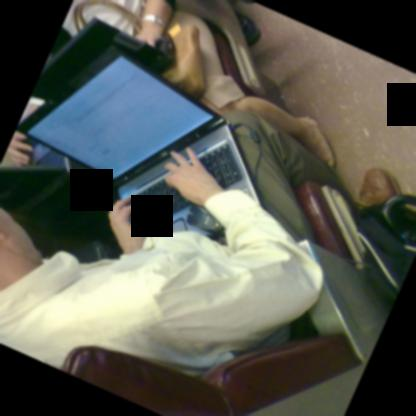backpack: (356, 201, 416, 295)
handbag: (71, 0, 206, 99)
